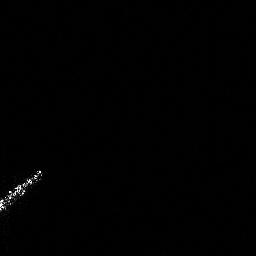ship: (1, 164, 46, 217)
